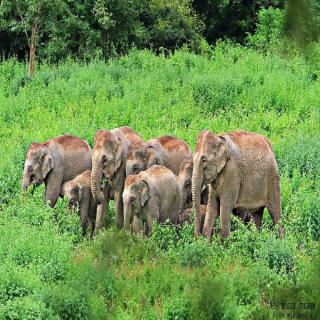Elephant: (189, 128, 286, 245), (90, 125, 150, 242), (20, 133, 92, 215), (120, 163, 180, 239)
